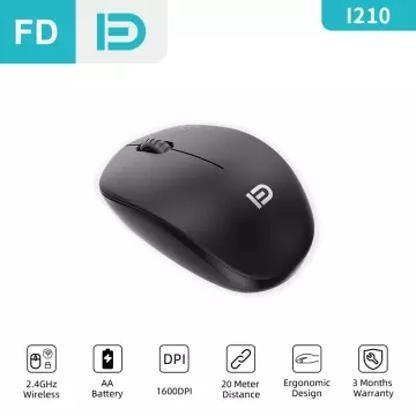not trash: (96, 121, 319, 297)
